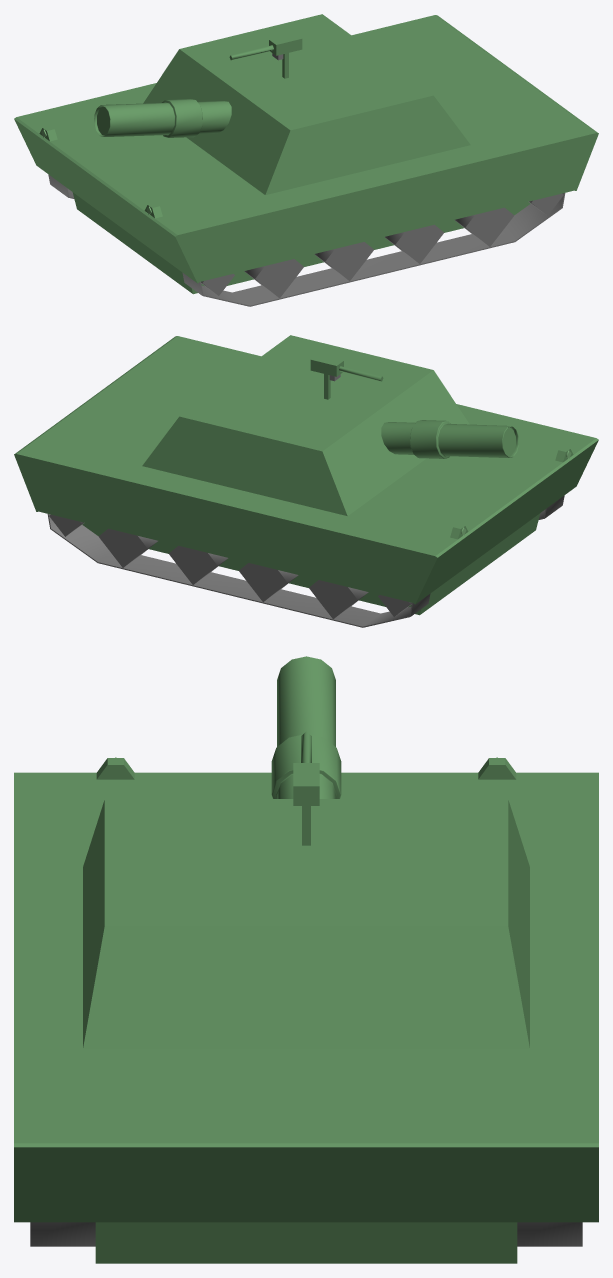
The model's file is Tanks and Armored Vehicle(2).glb.
3 views of the same model, one above another, from view 1: azimuth 30°, elevation 25°; view 2: azimuth 150°, elevation 25°; view 3: azimuth 270°, elevation 25° (orthographic). The views are drawn at different scales.
Visible parts, largest first — view 1: Root; view 2: Root; view 3: Root.
Boxes of the visible parts, left/top/right/bottom form: Root: left=14, top=14, right=598, bottom=306; Root: left=14, top=335, right=598, bottom=627; Root: left=14, top=656, right=598, bottom=1263.
Size of the model in its own units: 8.13 by 3.39 by 5.36.
